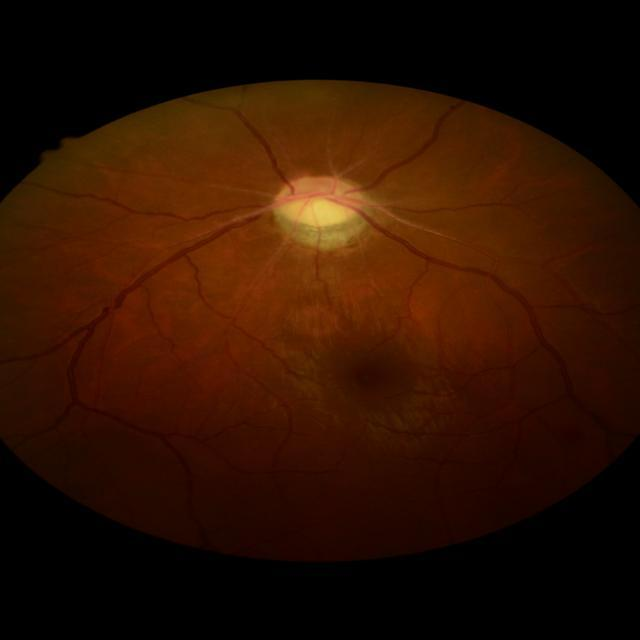cup: (282, 190, 352, 222)
disk: (272, 174, 364, 226)
